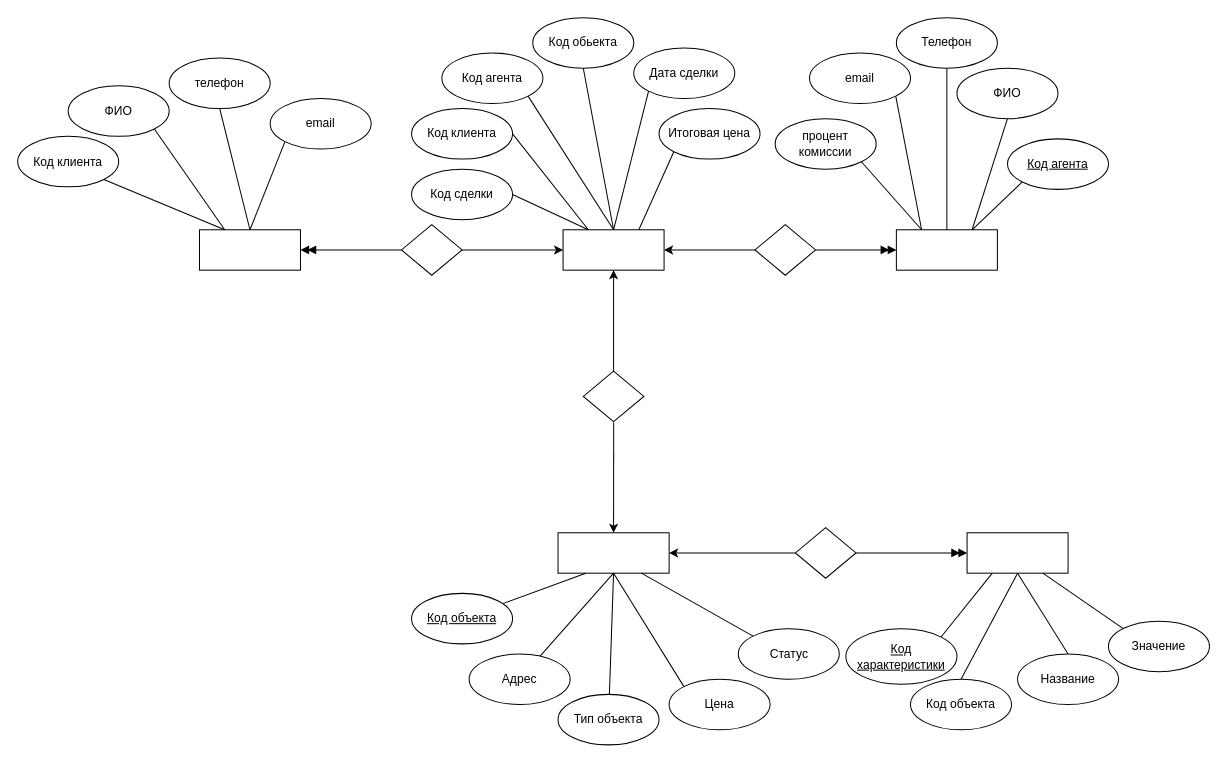
The diagram is 1227 pixels wide and 763 high, and some of its shapes have lost their labels. The centre of each missing label's shape, as x and y in pixels:
Агент Е2: the point at 946,249
Клиент Е1: the point at 249,249
Объект недвижимости Е4: the point at 613,552
Сделка Е2: the point at 613,249
Характеристика объекта Е5: the point at 1017,552
